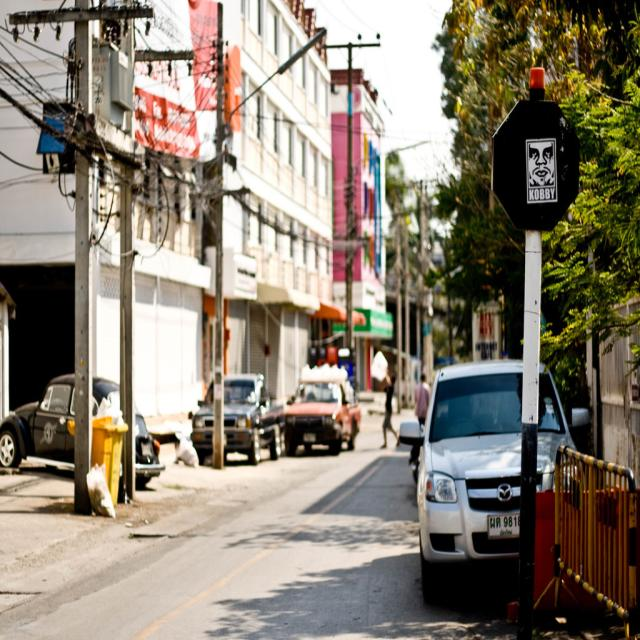car: (288, 366, 360, 452)
